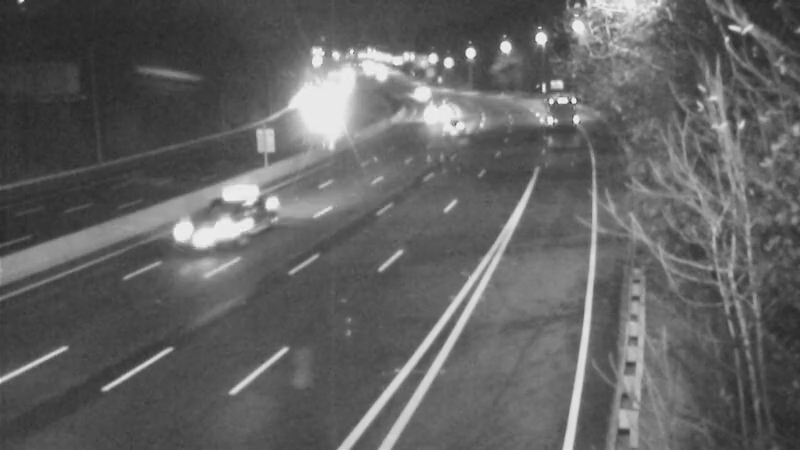vehicle: (178, 191, 258, 271), (395, 70, 445, 120), (525, 81, 575, 131), (409, 86, 459, 136), (430, 101, 480, 151)
